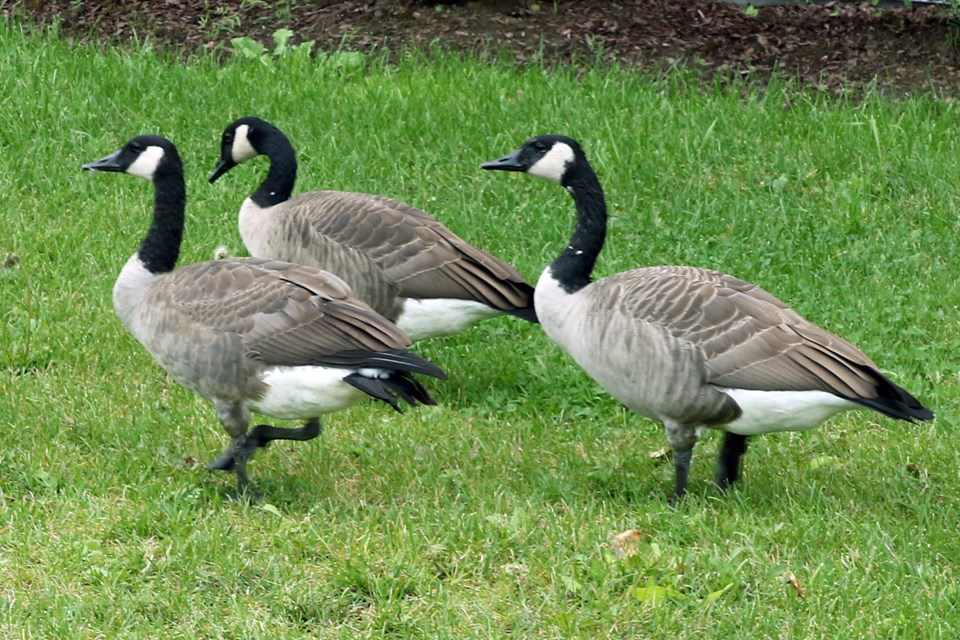goose: (475, 130, 940, 498), (76, 134, 451, 508), (207, 116, 547, 374)
